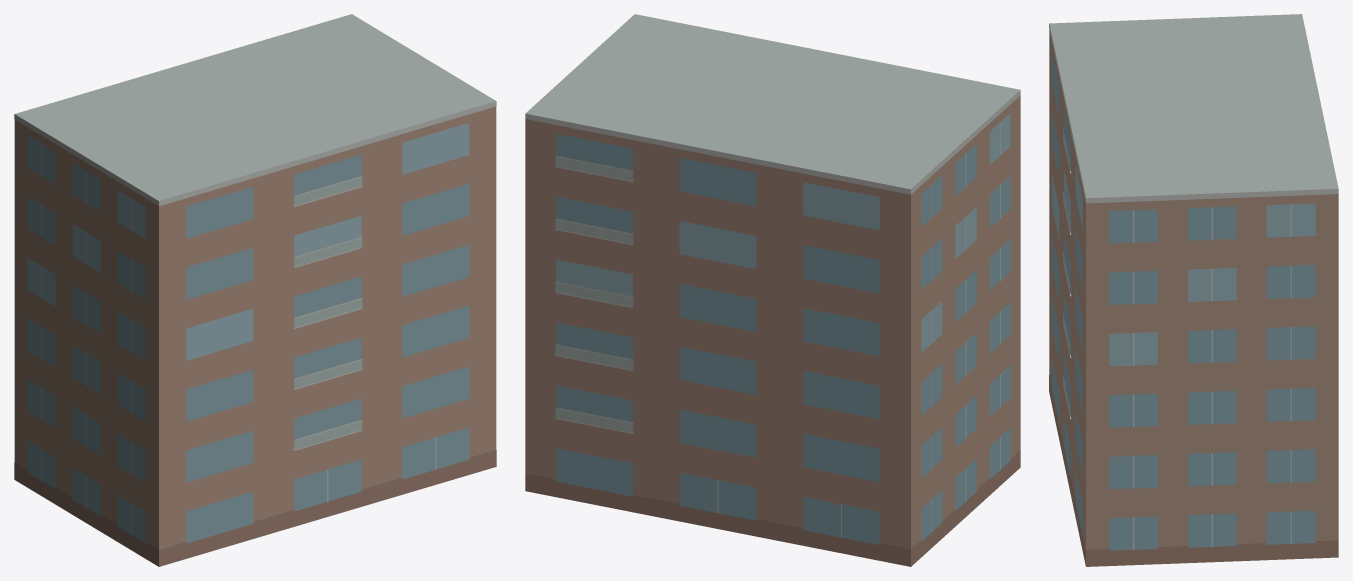
The model's file is survey-upis-32759649.glb.
3 views of the same model, side by side, from view 1: azimuth 30°, elevation 25°; view 2: azimuth 150°, elevation 25°; view 3: azimuth 270°, elevation 25° (orthographic). The views are drawn at different scales.
Visible parts, largest first — view 1: survey-upis-32759649.tmp; view 2: survey-upis-32759649.tmp; view 3: survey-upis-32759649.tmp.
Boxes of the visible parts, box(x1,y1,x2,y2) form: survey-upis-32759649.tmp: box(14, 14, 496, 566); survey-upis-32759649.tmp: box(525, 14, 1020, 566); survey-upis-32759649.tmp: box(1049, 14, 1338, 566).
Size of the model in its own units: 18.51 by 17.25 by 12.29.
